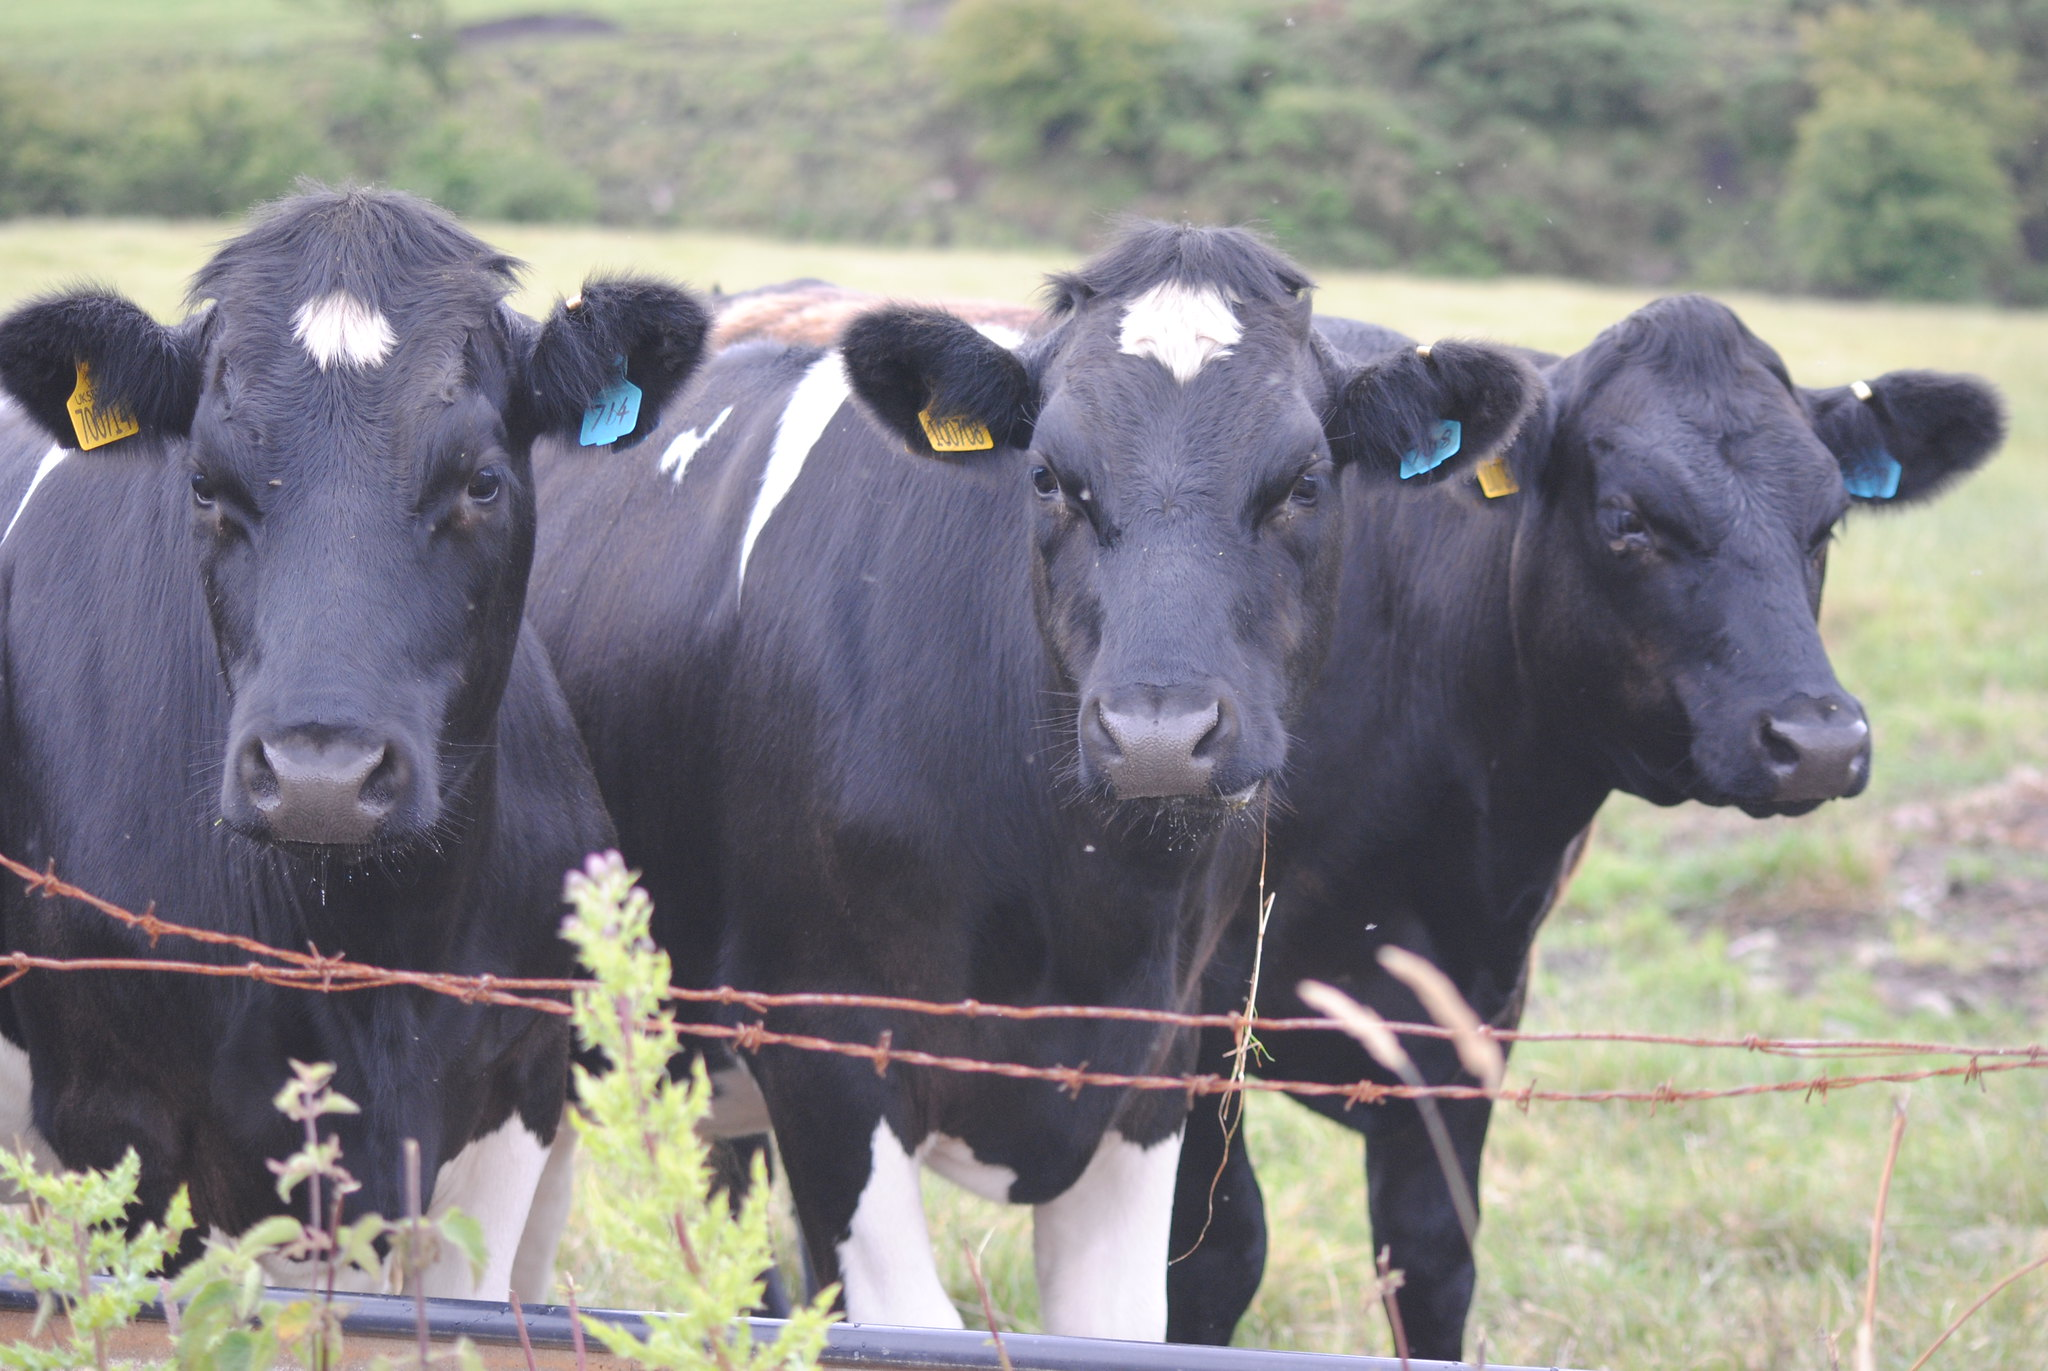cow: (571, 223, 1418, 1363), (15, 179, 664, 1328), (1323, 282, 1906, 1371)
